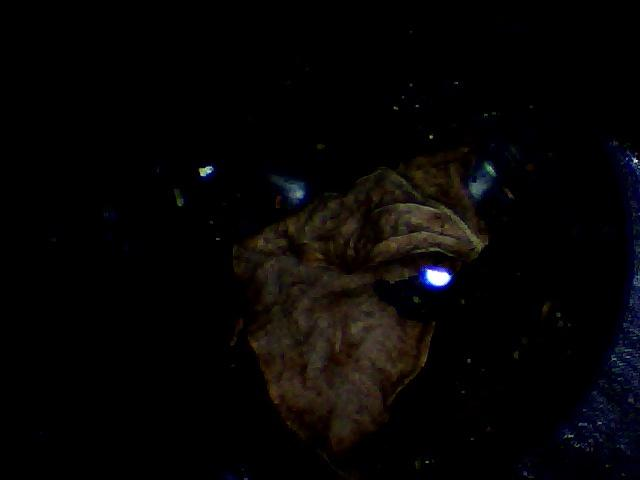feuille: (209, 122, 504, 479)
